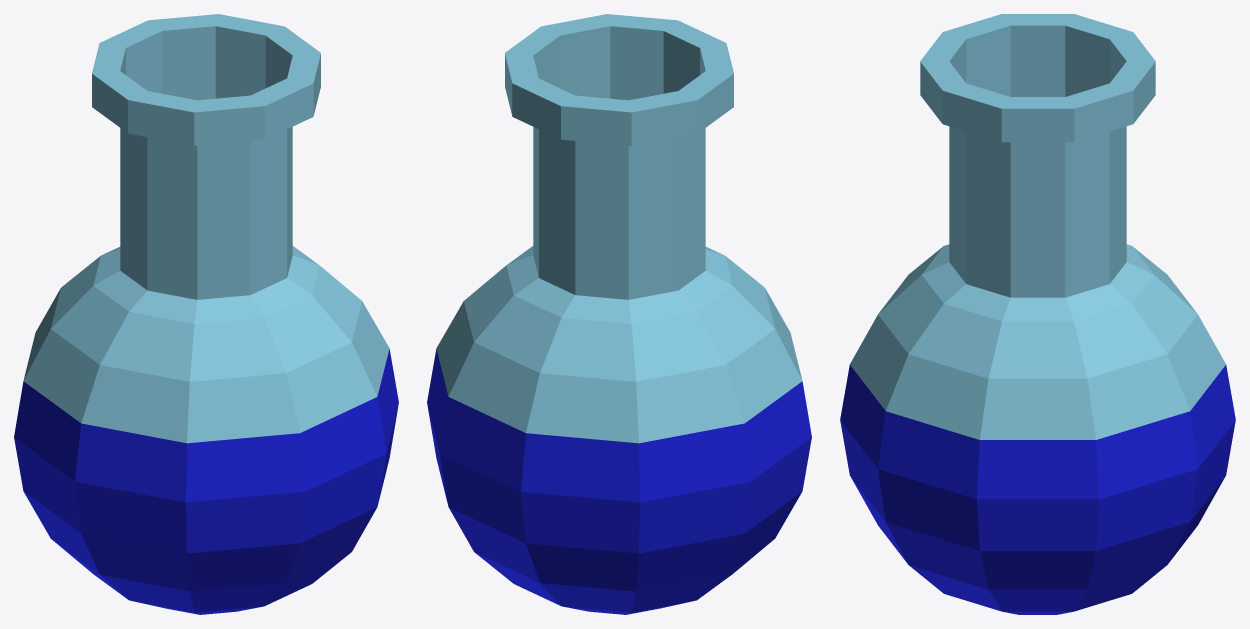
The model's file is Potion.fbx.
3 renders of one model, left to right at view 1: azimuth 30°, elevation 25°; view 2: azimuth 150°, elevation 25°; view 3: azimuth 270°, elevation 25°, orthographic.
Parts seen in each view (by area): view 1: Potion; view 2: Potion; view 3: Potion.
Part boxes in pixels (left/top/right/bottom): Potion: left=14, top=14, right=398, bottom=614; Potion: left=427, top=14, right=811, bottom=614; Potion: left=840, top=14, right=1235, bottom=614.
Size of the model in its own units: 291 by 459 by 306.
